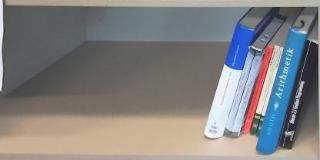book-spine: (255, 27, 307, 157), (203, 22, 255, 141), (278, 39, 319, 150), (224, 47, 264, 138), (242, 46, 274, 134), (250, 46, 280, 135), (256, 47, 284, 138)
